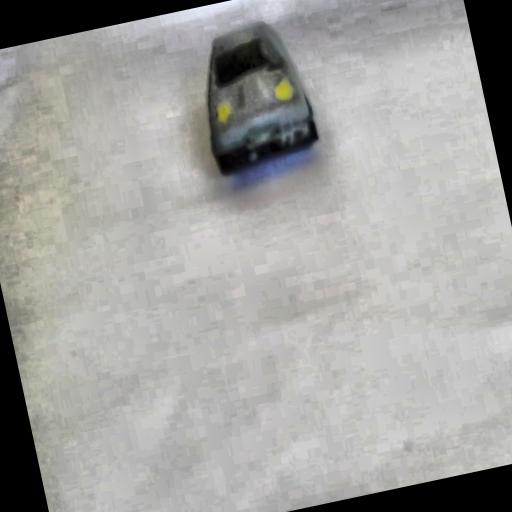normal_car: (183, 12, 325, 179)
